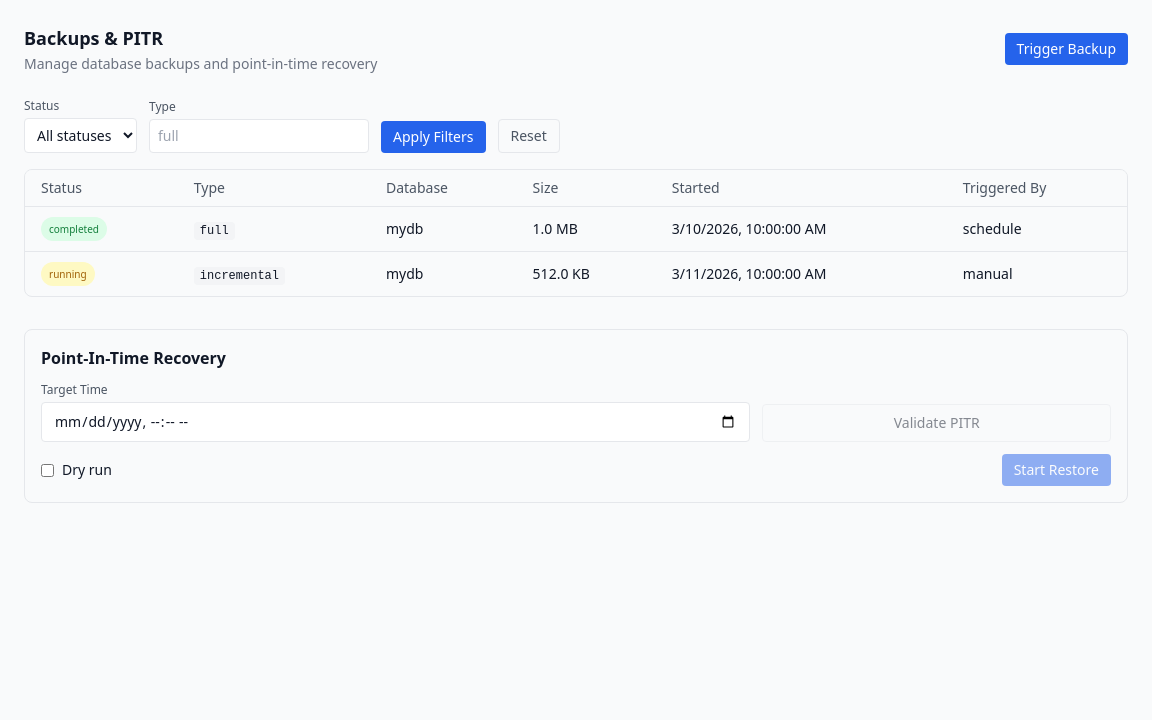
it: Backups › validates PITR target time and displays recovery window
This screenshot has width=1152, height=720.
Expected: the text "completed" is shown, [41, 217, 107, 241]
Type "2026-03-11T09:30" into the field labelled "Target Time".
click(396, 422); type("2026-03-11T09:30")  # box [41, 402, 750, 442]
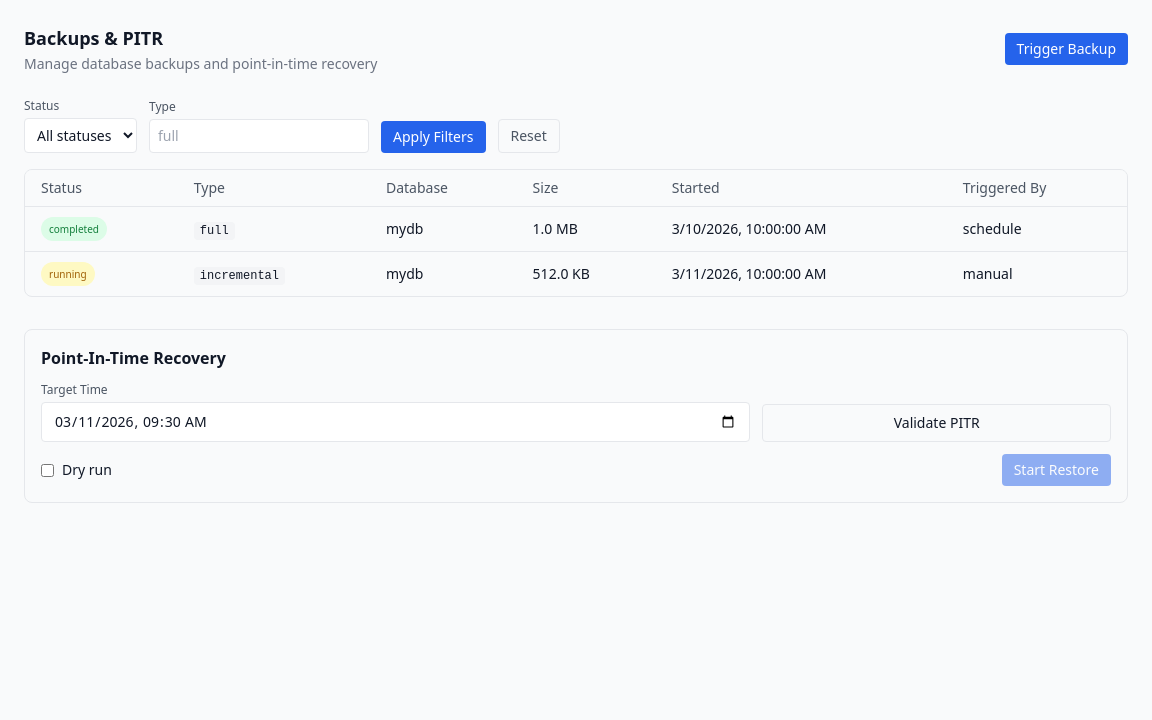
Click the button "Validate PITR".
click(937, 423)  # box [762, 404, 1111, 442]
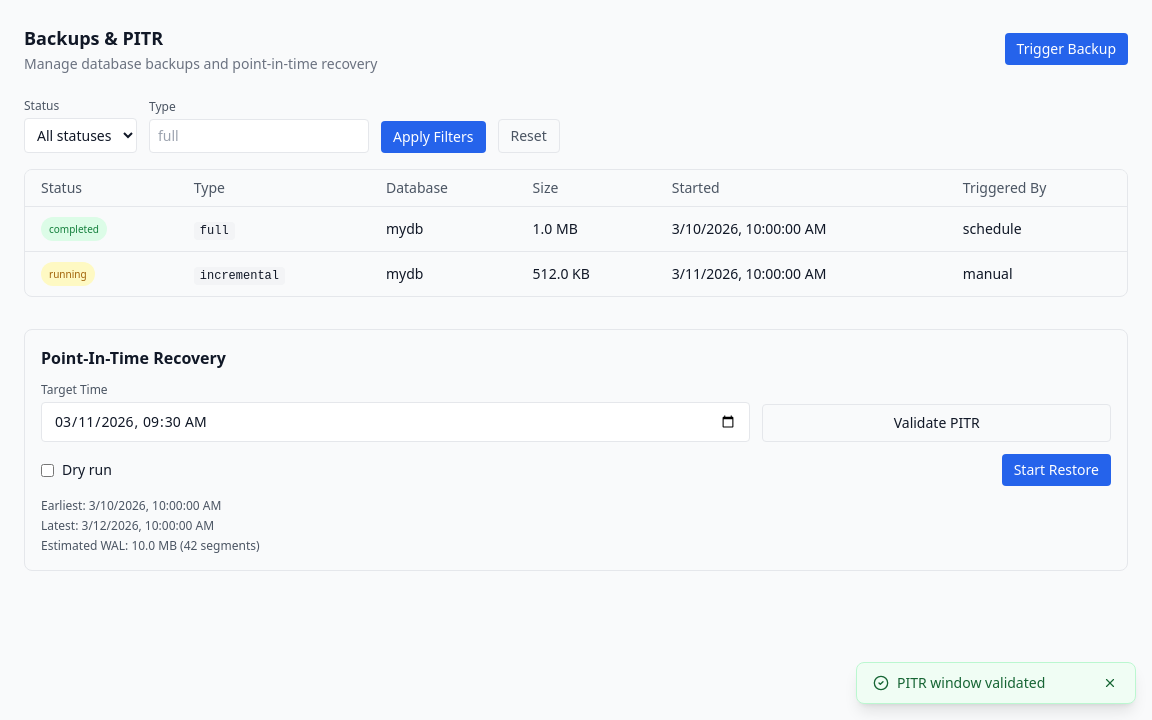
Expected: the text "Earliest: 3/10/2026, 10:00:00 AM" is shown, [41, 497, 221, 514]
Expected: the text "Latest: 3/12/2026, 10:00:00 AM" is shown, [41, 517, 214, 534]
